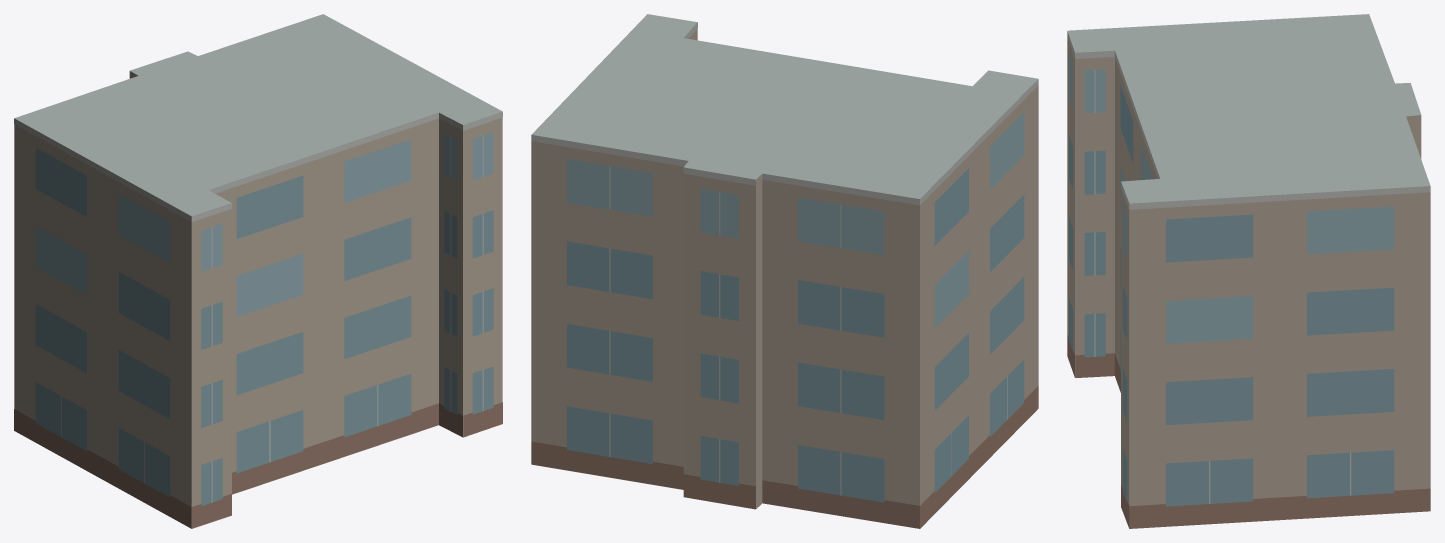
The model's file is survey-upis-32958542.glb.
3 views of the same model, side by side, from view 1: azimuth 30°, elevation 25°; view 2: azimuth 150°, elevation 25°; view 3: azimuth 270°, elevation 25° (orthographic). The views are drawn at different scales.
Visible parts, largest first — view 1: survey-upis-32958542.tmp; view 2: survey-upis-32958542.tmp; view 3: survey-upis-32958542.tmp.
Part boxes in pixels (x1=…): survey-upis-32958542.tmp: x1=14, y1=14, x2=502, y2=528; survey-upis-32958542.tmp: x1=531, y1=14, x2=1038, y2=528; survey-upis-32958542.tmp: x1=1067, y1=14, x2=1430, y2=528.
Size of the model in its own units: 16.14 by 12.9 by 13.07.
